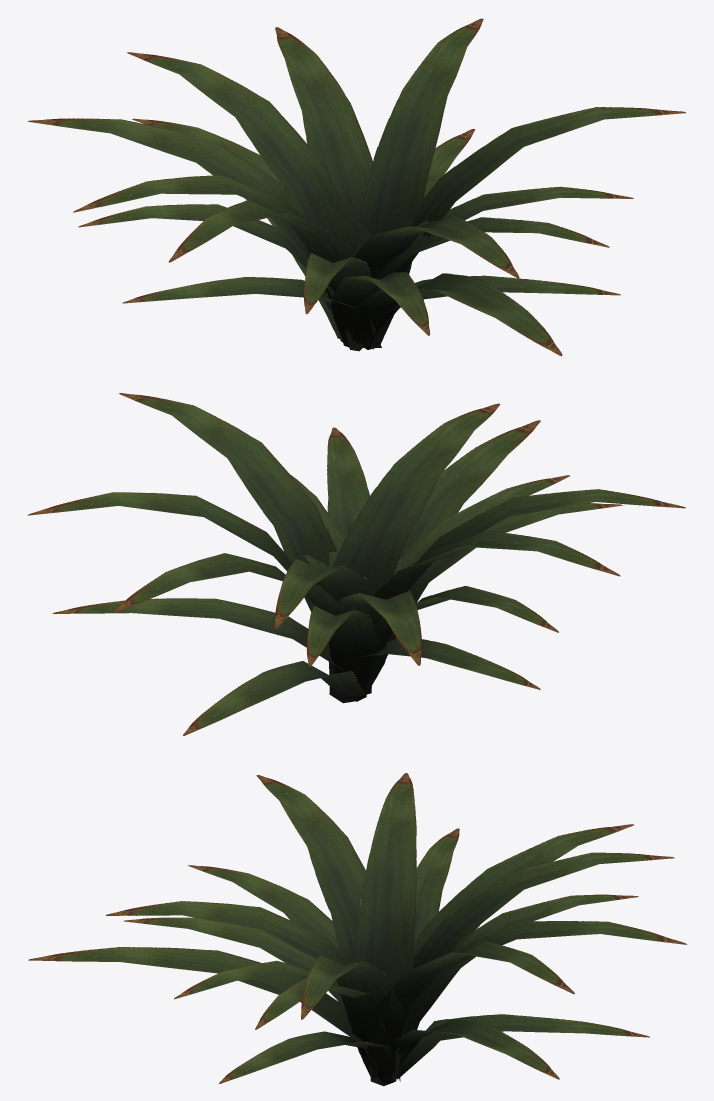
The model's file is Yucca01.FBX.
The picture shows the model from 3 angles, top to bottom: view 1: azimuth 30°, elevation 25°; view 2: azimuth 150°, elevation 25°; view 3: azimuth 270°, elevation 25°; orthographic projection. The views are drawn at different scales.
Parts seen in each view (by area): view 1: Yucca01; view 2: Yucca01; view 3: Yucca01.
Part boxes in pixels (x1=…): Yucca01: x1=28, y1=18, x2=685, y2=356; Yucca01: x1=27, y1=393, x2=685, y2=735; Yucca01: x1=28, y1=773, x2=686, y2=1086.
Size of the model in its own units: 104 by 37.43 by 115.
